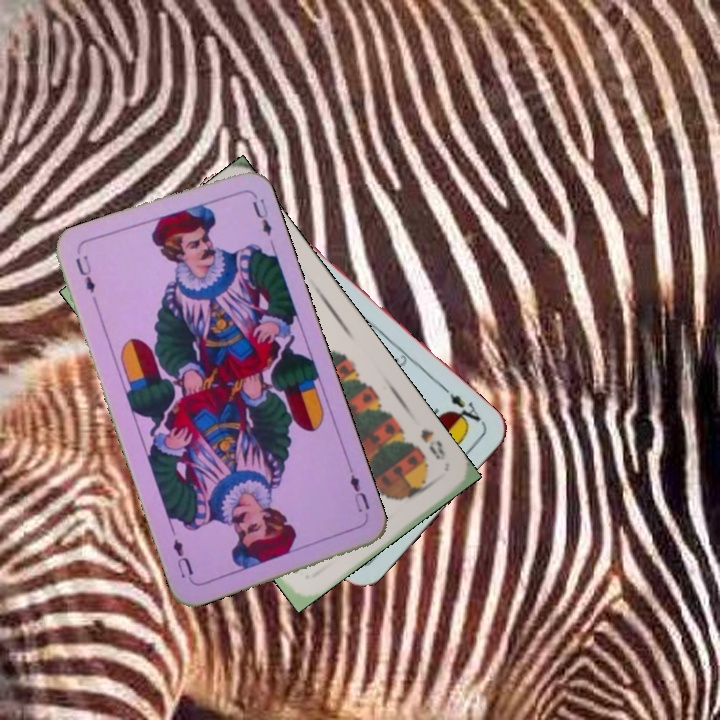EA: (440, 384, 488, 430)
EU: (345, 463, 372, 515), (71, 251, 98, 296)
S8: (416, 425, 449, 463)
